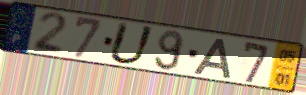2: (32, 11, 70, 54)
7: (73, 14, 103, 60), (242, 39, 270, 85)
9: (153, 28, 187, 73)
A: (192, 37, 233, 80)
U: (106, 20, 158, 66)
